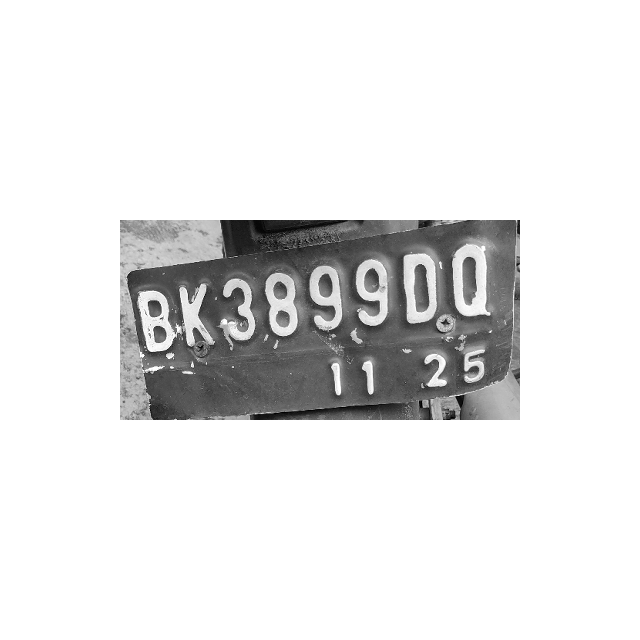contain: (448, 236, 499, 321), (395, 247, 441, 327), (129, 288, 177, 361), (176, 278, 220, 352), (307, 261, 348, 333), (215, 278, 257, 348), (262, 267, 301, 340), (355, 249, 391, 328)
